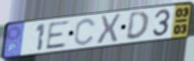1: (35, 22, 46, 51)
3: (152, 8, 172, 38)
C: (73, 17, 97, 46)
D: (124, 10, 150, 41)
E: (44, 19, 72, 51)
X: (95, 12, 122, 46)
